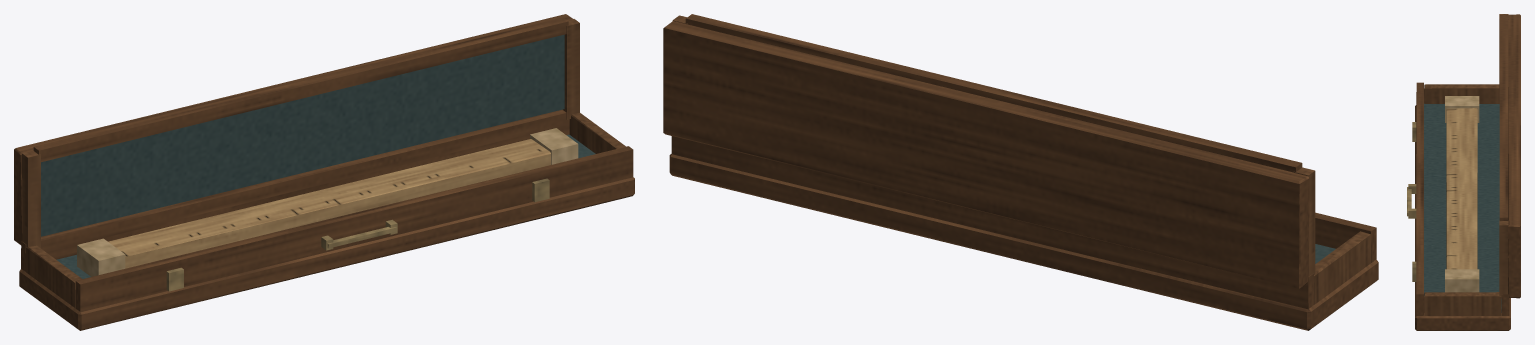
File: EastGaugeCase_LOD1.fbx
The picture shows the model from 3 angles, left to right: view 1: azimuth 30°, elevation 25°; view 2: azimuth 150°, elevation 25°; view 3: azimuth 270°, elevation 25°; orthographic projection. The views are drawn at different scales.
Parts seen in each view (by area): view 1: EastGaugeCase.001; view 2: EastGaugeCase.001; view 3: EastGaugeCase.001.
Boxes of the visible parts, x1,y1,x2,y2 form: EastGaugeCase.001: (14, 14, 634, 330); EastGaugeCase.001: (663, 14, 1378, 330); EastGaugeCase.001: (1407, 14, 1520, 330).
Size of the model in its own units: 1.49 by 0.3546 by 0.336.
1 material, 1 textured.
